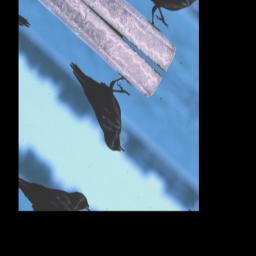Crow: (50, 38, 154, 161)
